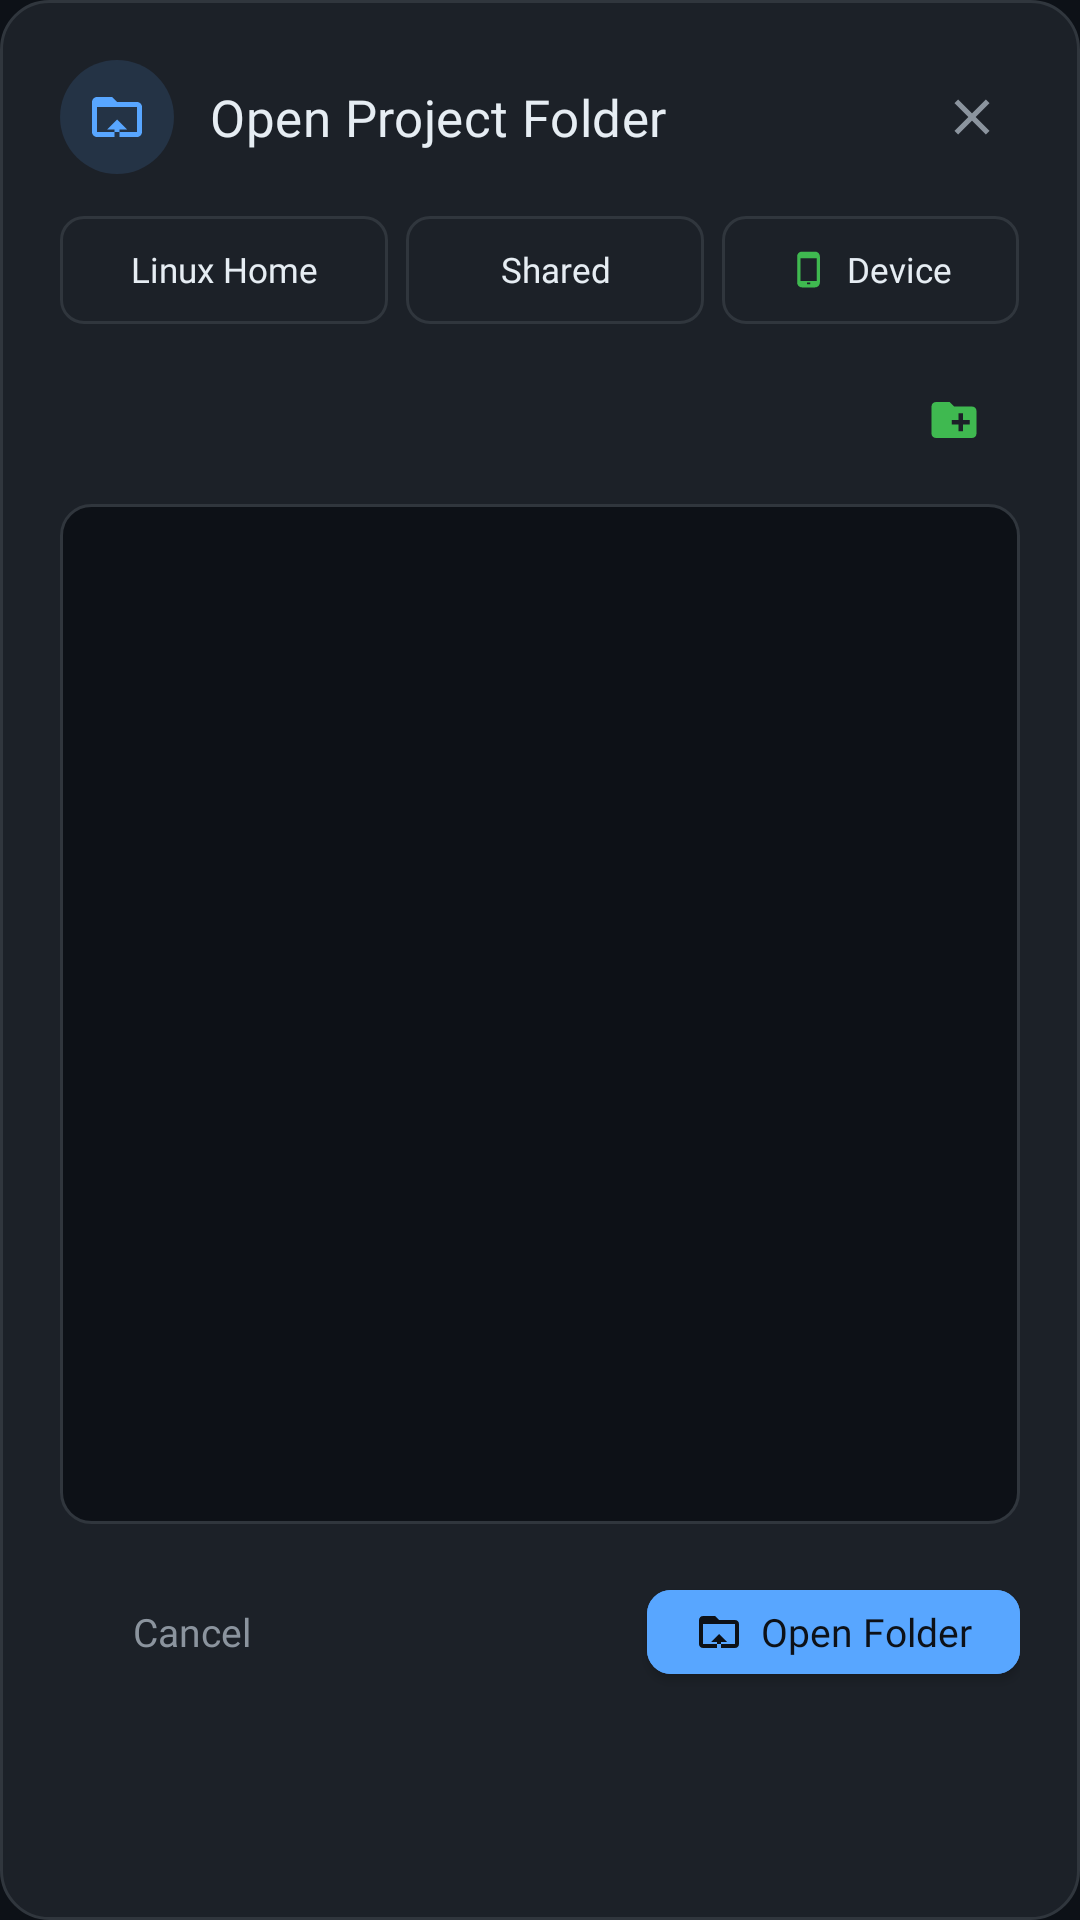

Point at icon controls on the screen. Image size 1080*1920, points as point (x, y).
Close: point (972, 117)
New Folder Here: point (954, 420)
